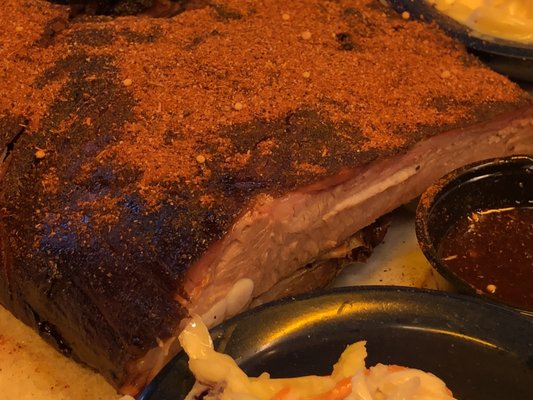sushi: (198, 286, 533, 399), (415, 156, 533, 319)
